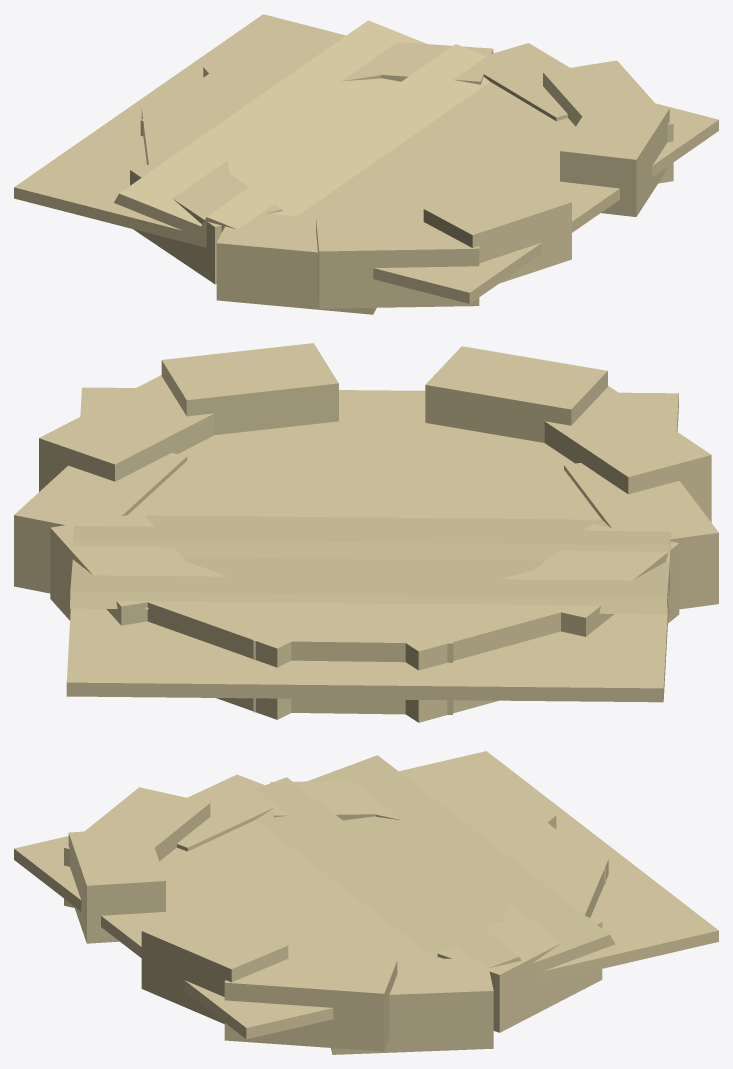
Rendered from ceiling yeni.fbx.
The picture shows the model from 3 angles, top to bottom: view 1: azimuth 30°, elevation 25°; view 2: azimuth 150°, elevation 25°; view 3: azimuth 270°, elevation 25°; orthographic projection. The views are drawn at different scales.
Visible parts, largest first — view 1: tavan; view 2: tavan; view 3: tavan.
Part boxes in pixels (<box>): tavan: <box>14,14,718,314</box>; tavan: <box>14,343,718,722</box>; tavan: <box>14,751,718,1054</box>.
Size of the model in its own units: 297 by 40.78 by 307.
